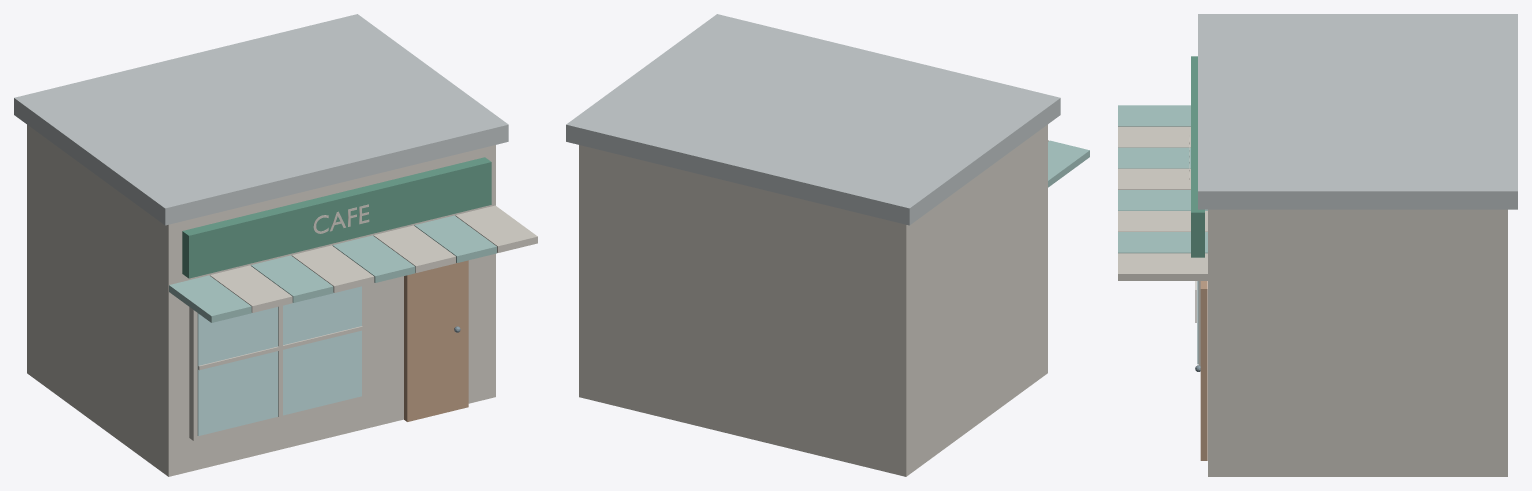
Rendered from coffee_shop.glb.
3 views of the same model, side by side, from view 1: azimuth 30°, elevation 25°; view 2: azimuth 150°, elevation 25°; view 3: azimuth 270°, elevation 25° (orthographic). The views are drawn at different scales.
Parts seen in each view (by area): view 1: coffee_shop_001, coffee_shop_000, coffee_shop_005, coffee_shop_008, coffee_shop_002, coffee_shop_004, coffee_shop_010, coffee_shop_011, coffee_shop_014, coffee_shop_012, coffee_shop_013, coffee_shop_016 (+4 smaller); view 2: coffee_shop_000, coffee_shop_001, coffee_shop_010; view 3: coffee_shop_000, coffee_shop_001, coffee_shop_017, coffee_shop_008, coffee_shop_016, coffee_shop_010, coffee_shop_011, coffee_shop_012, coffee_shop_013, coffee_shop_015, coffee_shop_014, coffee_shop_002.
Part boxes in pixels (bbox=[...]): coffee_shop_001: bbox=[14, 14, 508, 225]; coffee_shop_000: bbox=[27, 124, 495, 476]; coffee_shop_005: bbox=[197, 286, 361, 435]; coffee_shop_008: bbox=[182, 157, 491, 278]; coffee_shop_002: bbox=[404, 260, 468, 421]; coffee_shop_004: bbox=[189, 285, 365, 440]; coffee_shop_010: bbox=[169, 275, 251, 322]; coffee_shop_011: bbox=[210, 265, 292, 312]; coffee_shop_014: bbox=[332, 235, 415, 282]; coffee_shop_012: bbox=[251, 255, 333, 302]; coffee_shop_013: bbox=[291, 245, 374, 292]; coffee_shop_016: bbox=[414, 215, 496, 262]; coffee_shop_000: bbox=[579, 124, 1047, 476]; coffee_shop_001: bbox=[566, 14, 1060, 225]; coffee_shop_010: bbox=[1048, 140, 1089, 187]; coffee_shop_000: bbox=[1208, 209, 1507, 476]; coffee_shop_001: bbox=[1198, 14, 1517, 209]; coffee_shop_017: bbox=[1118, 253, 1207, 280]; coffee_shop_008: bbox=[1191, 56, 1204, 257]; coffee_shop_016: bbox=[1118, 232, 1207, 253]; coffee_shop_010: bbox=[1118, 105, 1190, 126]; coffee_shop_011: bbox=[1118, 126, 1190, 147]; coffee_shop_012: bbox=[1118, 147, 1190, 168]; coffee_shop_013: bbox=[1118, 168, 1190, 189]; coffee_shop_015: bbox=[1118, 211, 1207, 231]; coffee_shop_014: bbox=[1118, 190, 1207, 210]; coffee_shop_002: bbox=[1200, 281, 1207, 460].
Size of the model in its own units: 4.2 by 3.2 by 4.
